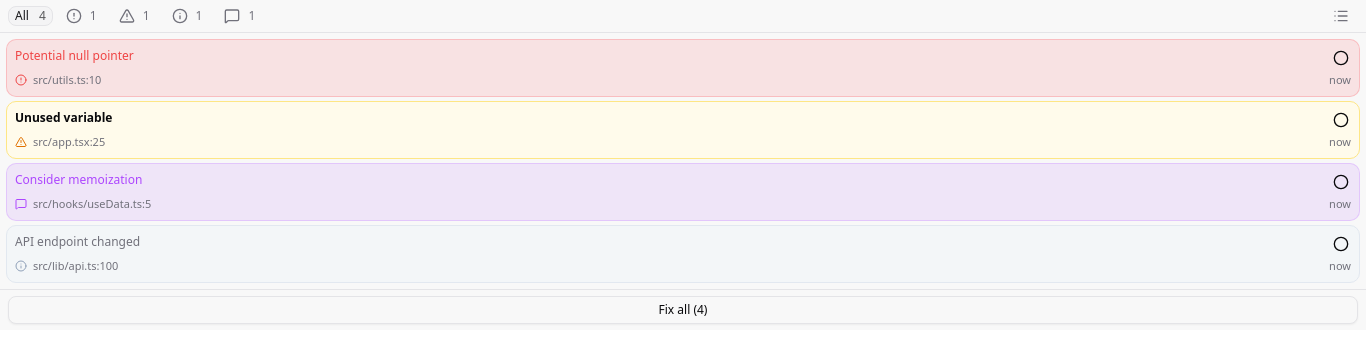
Test case: ReviewPanel › severity filters › clicking All resets filter to show all unresolved
The width and height of the screenshot is (1366, 342).
Expected: the text "Potential null pointer" is shown, [15,48,134,63]
// Click error filter first
Click the 1st button "1" at (81, 16), box [57,6,106,26]
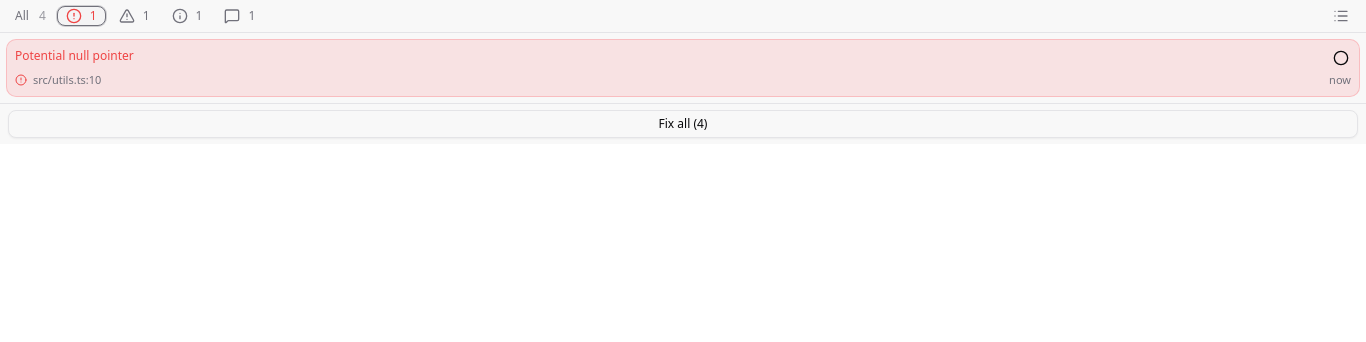
// Then click All
Click the button "All 4" at (30, 16), box [8,6,53,26]
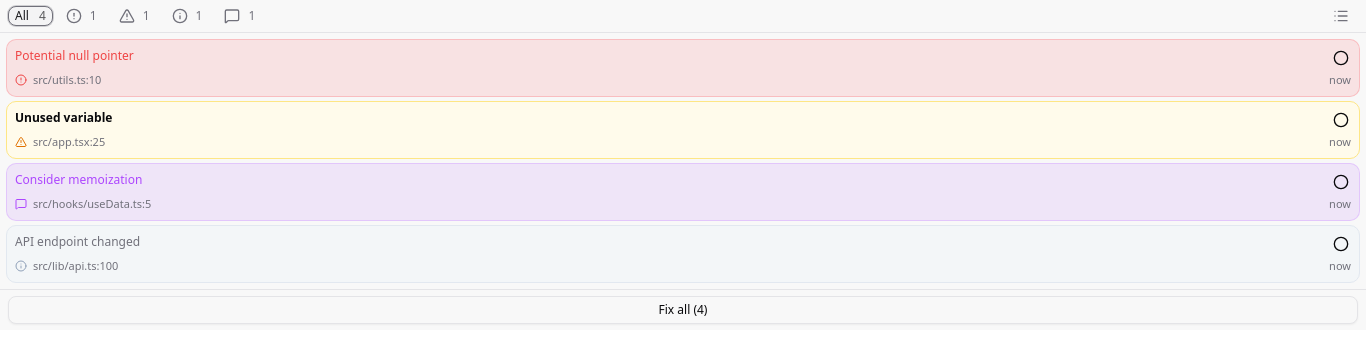
Expected: the text "Unused variable" is shown, [15,110,112,125]
Expected: the text "Consider memoization" is shown, [15,172,142,187]
Expected: the text "API endpoint changed" is shown, [15,234,140,249]
